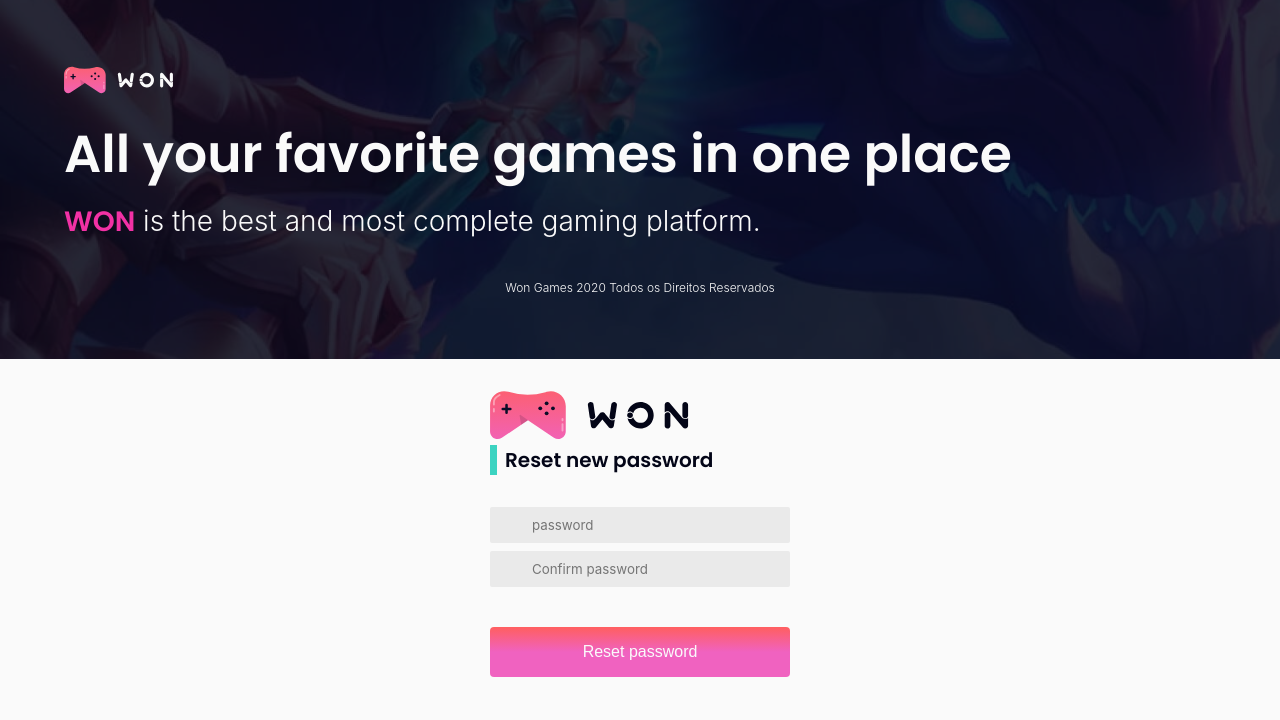
Test: Reset Password › should be able show message error if code is invalid
In the password field with placeholder "password": (652, 525) top-left (532, 509), bottom-right (772, 541), type "123456"
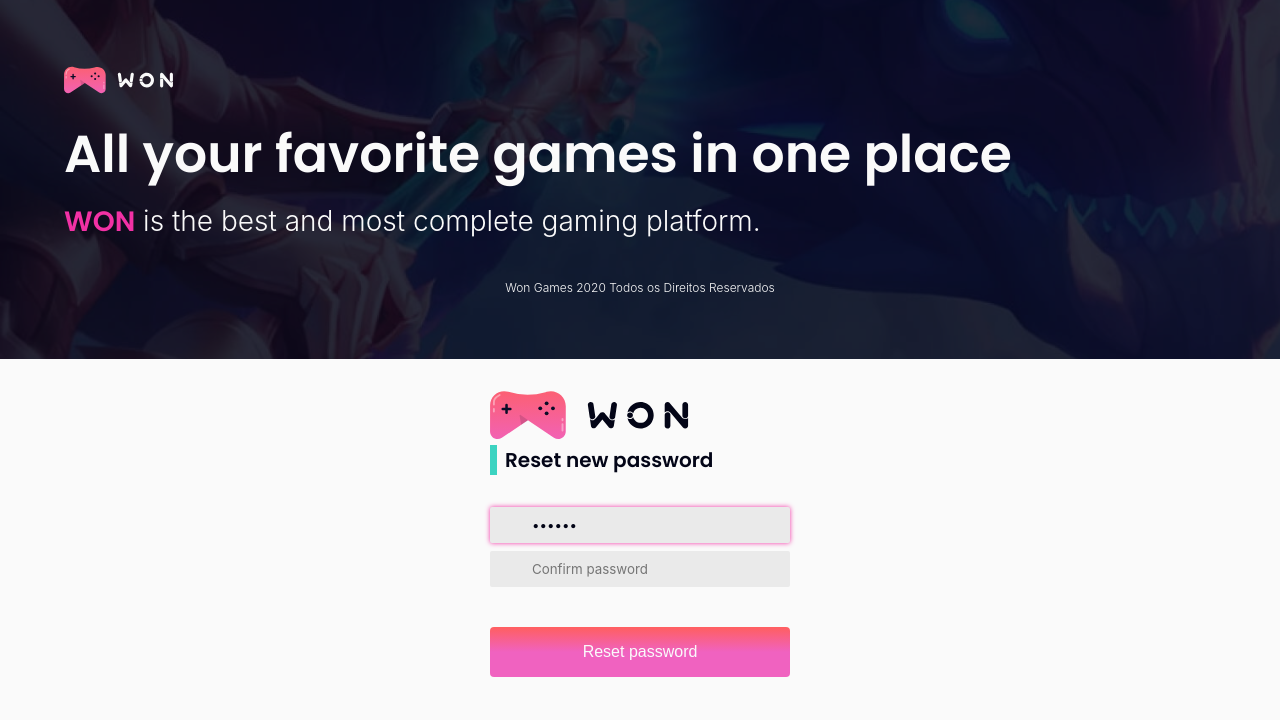
In the password field with placeholder "Confirm password": (652, 569) top-left (532, 553), bottom-right (772, 585), type "123456"
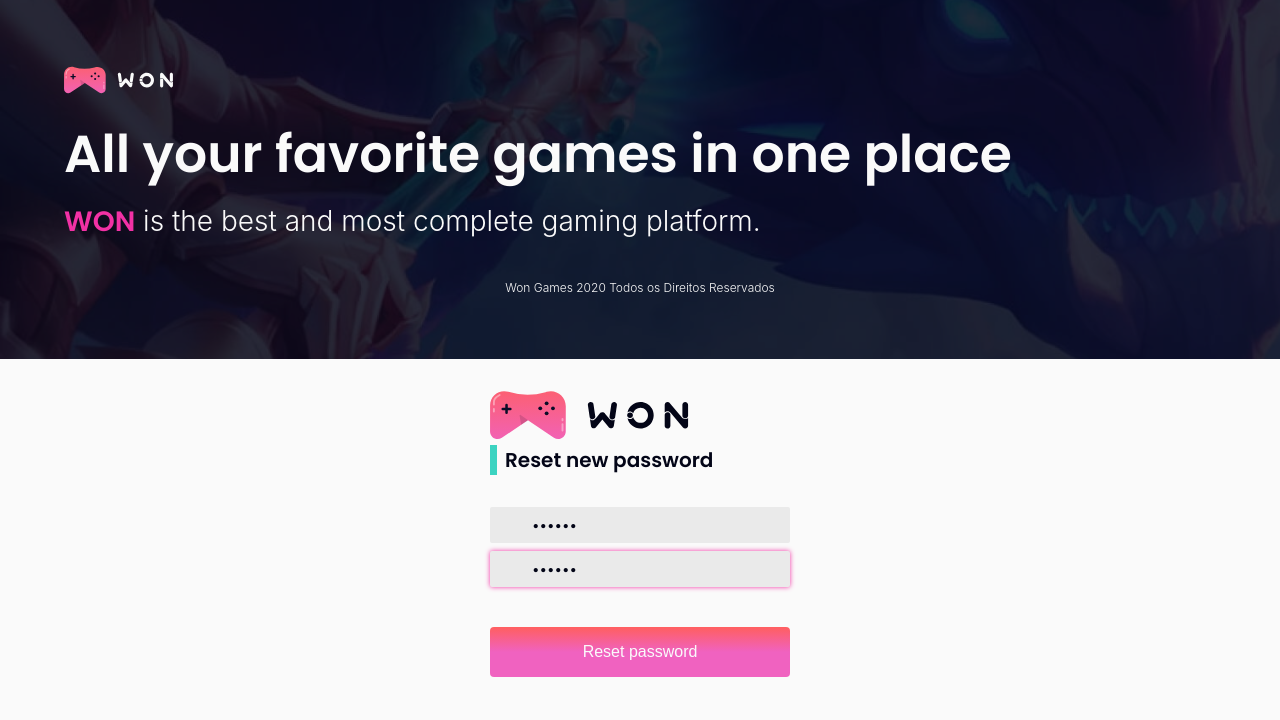
Click the button "Reset password": (640, 652) top-left (490, 627), bottom-right (790, 677)
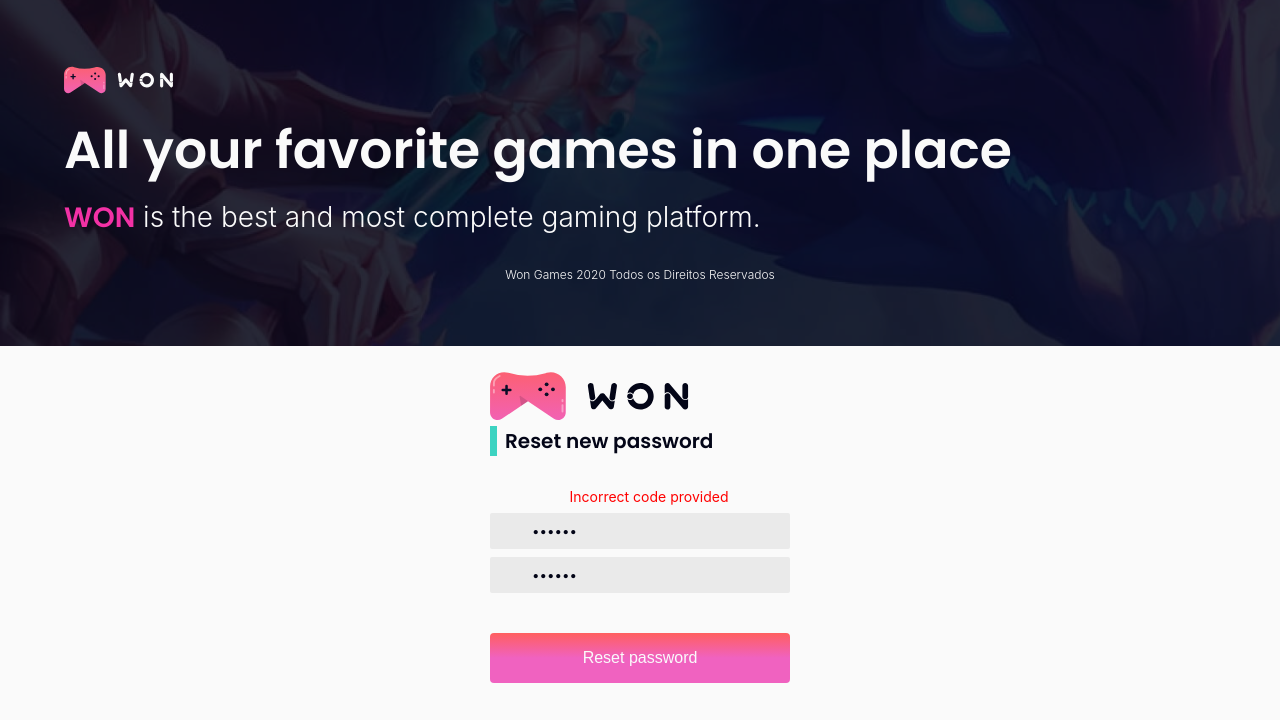
Check: the text "Incorrect code provided" is shown, box top-left (570, 488), bottom-right (728, 505)
